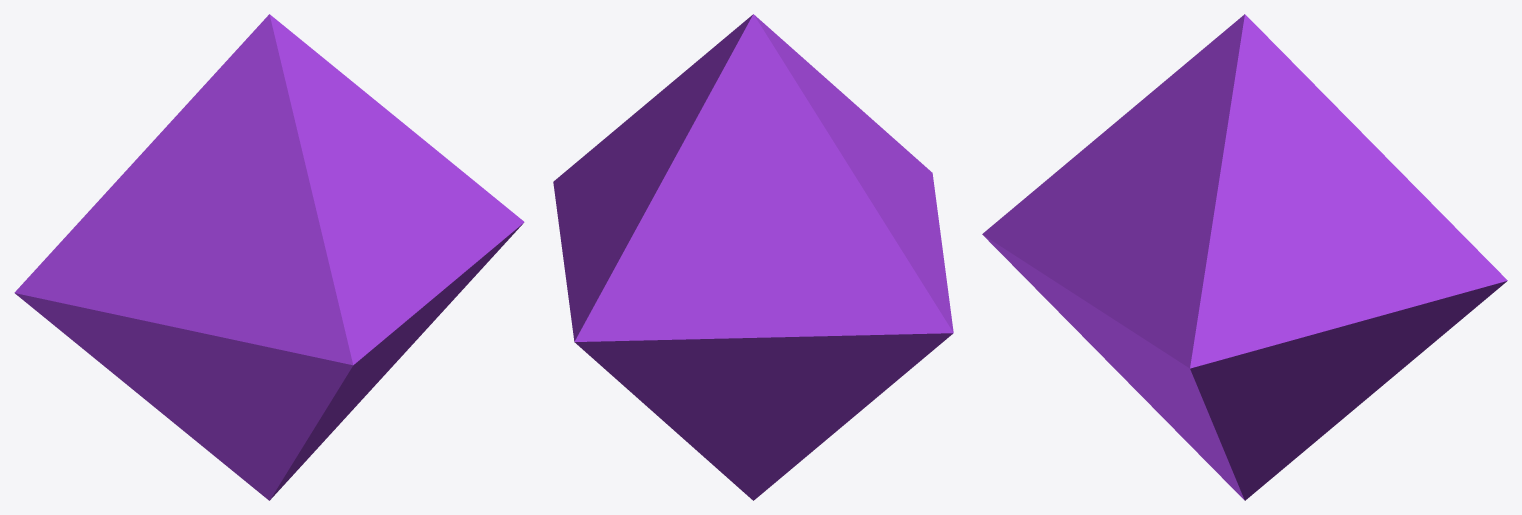
Rendered from Crystal.004.fbx.
3 views of the same model, side by side, from view 1: azimuth 30°, elevation 25°; view 2: azimuth 150°, elevation 25°; view 3: azimuth 270°, elevation 25° (orthographic).
Visible parts, largest first — view 1: Crystal.004; view 2: Crystal.004; view 3: Crystal.004.
Boxes of the visible parts, x1,y1,x2,y2 form: Crystal.004: [14, 14, 524, 500]; Crystal.004: [553, 14, 953, 500]; Crystal.004: [982, 14, 1507, 500].
Size of the model in its own units: 1002 by 1024 by 1002.
